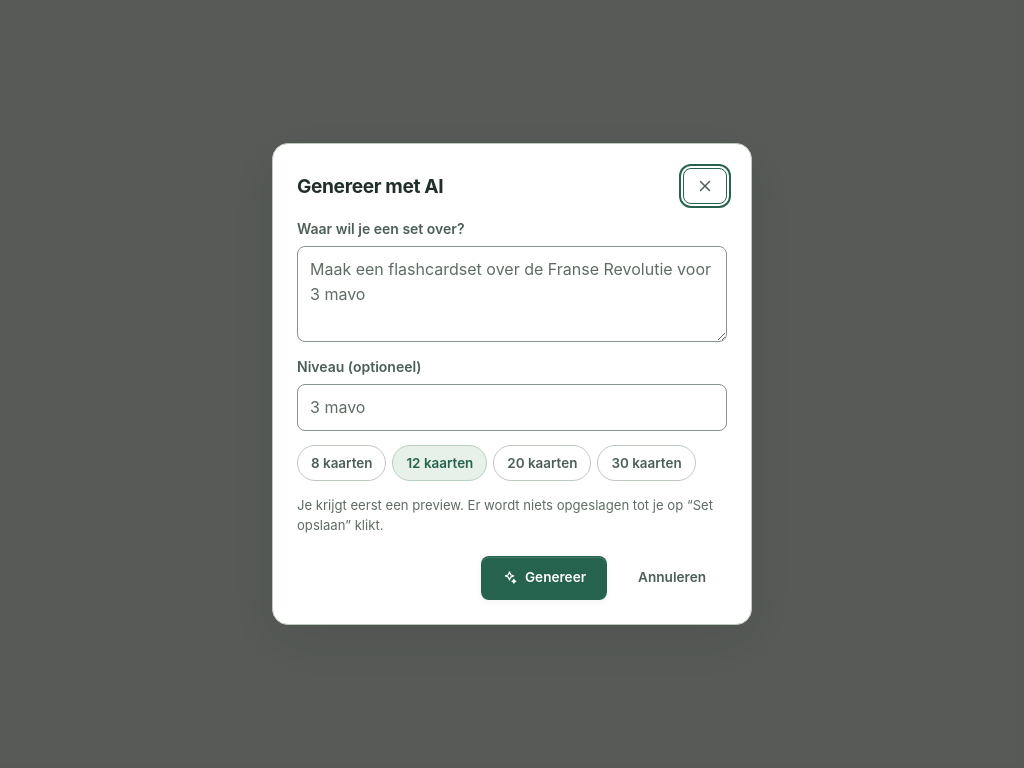
it: AiGenerateSetModal › shows a preview of the generated cards before saving
The width and height of the screenshot is (1024, 768).
Step 1. Type "Maak een set over de Franse Revolutie voor 3 mavo" into the text box with placeholder "Maak een flashcardset over de Franse Revolutie voor 3 mavo" → (512, 294), box [297,246,727,342]
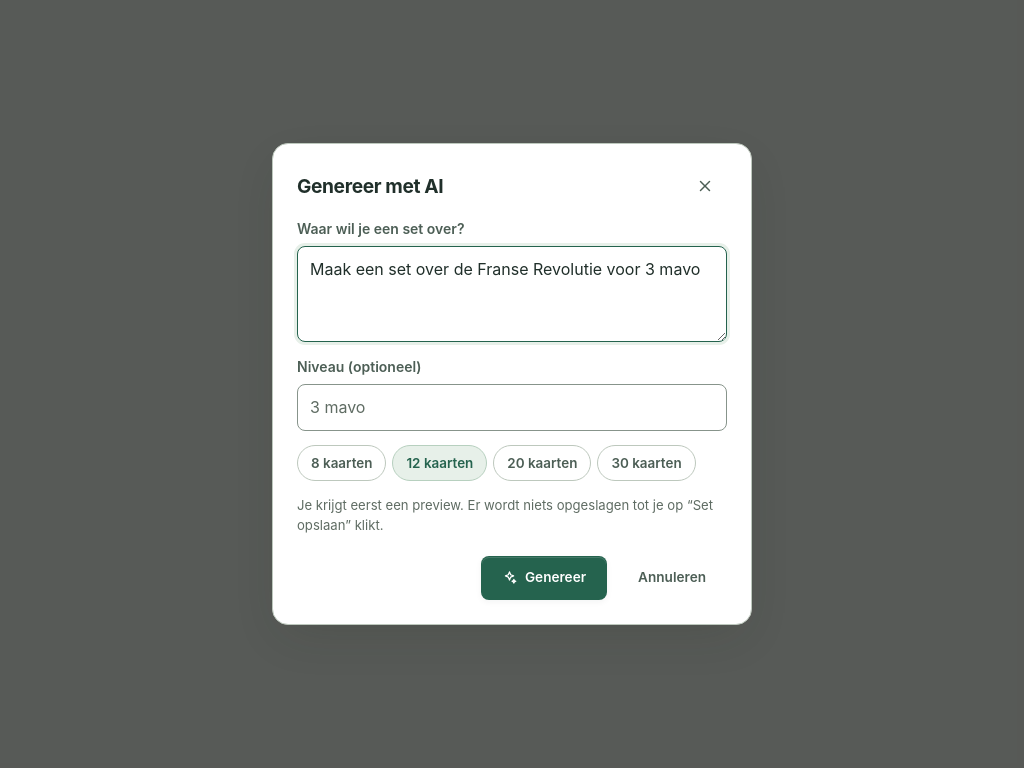
Step 2. Click the button "Genereer" → (544, 578), box [481,556,607,600]
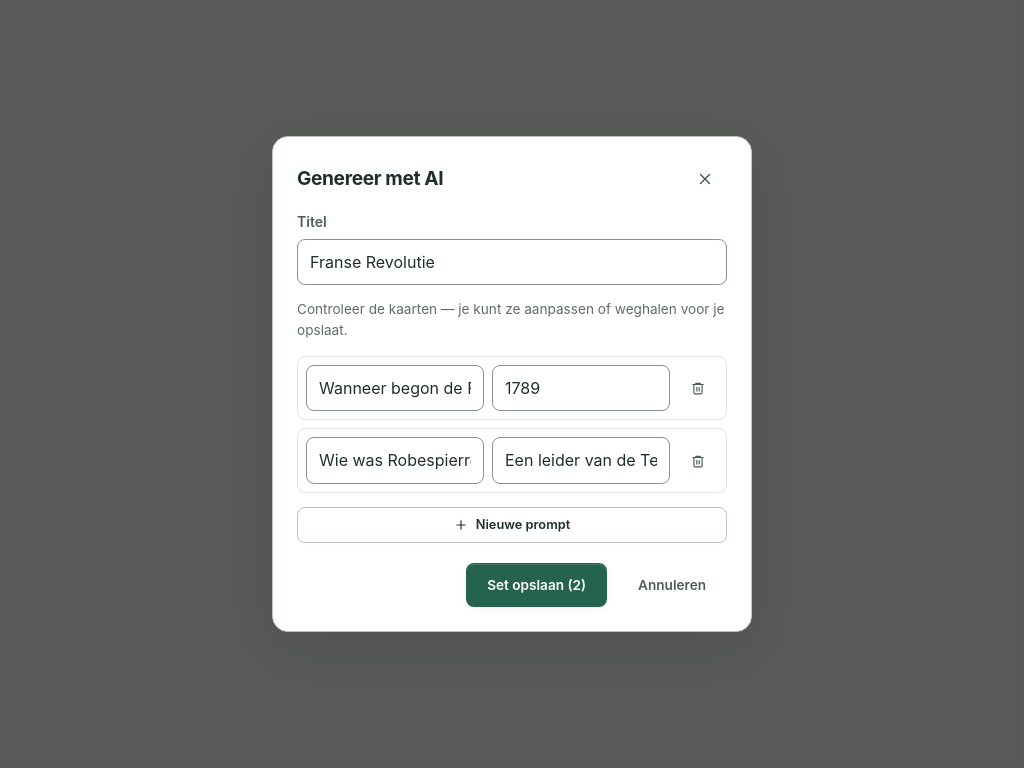
Check: the field showing "Wanneer begon de Franse Revolutie?" is shown, box [306,364,484,411]
Check: the field showing "1789" is shown, box [492,364,670,411]
